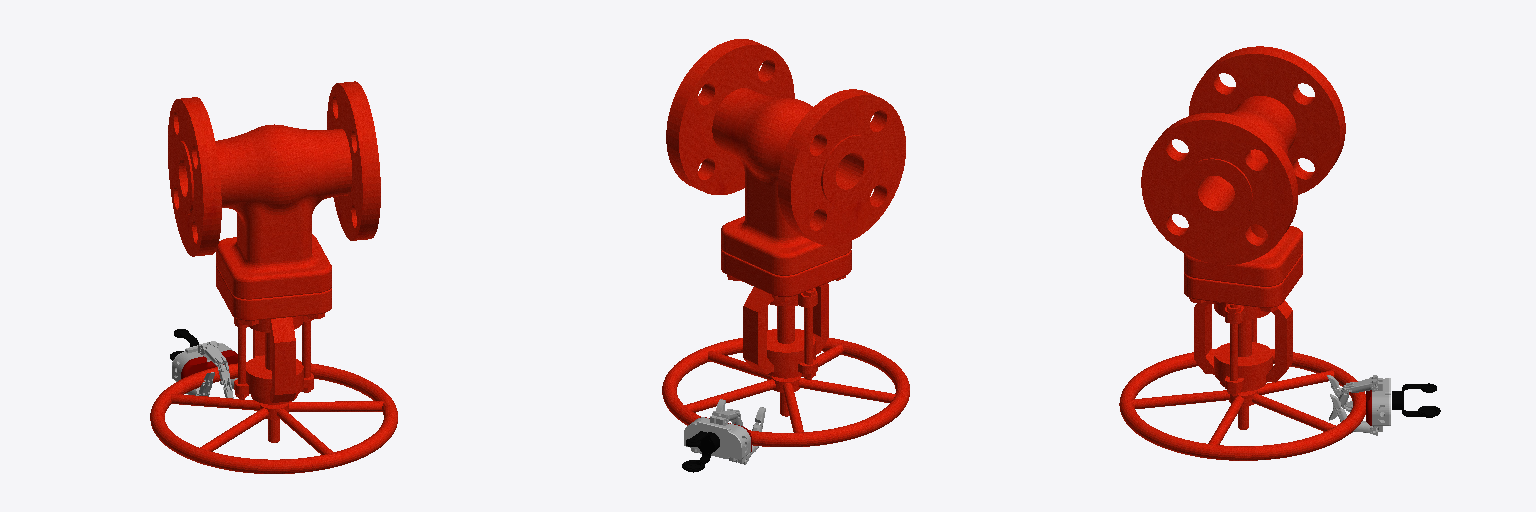
3 renders of one model, left to right at view 1: azimuth 30°, elevation 25°; view 2: azimuth 150°, elevation 25°; view 3: azimuth 270°, elevation 25°, orthographic.
Visible parts, largest first — view 1: ASME_B16.10_Gate_Valve_Flanges_Ends_-_Class_150_1, Hand_ball_-_palmPadMountingPAD-1.001_Hand_ball_-_palmPadMounting; view 2: ASME_B16.10_Gate_Valve_Flanges_Ends_-_Class_150_1, Hand_ball_-_ShaftSupport_underplate-1.001_Hand_ball_-_ShaftSuppo; view 3: ASME_B16.10_Gate_Valve_Flanges_Ends_-_Class_150_1.
Boxes of the visible parts, x1=… form: ASME_B16.10_Gate_Valve_Flanges_Ends_-_Class_150_1: x1=150, y1=81, x2=397, y2=473; Hand_ball_-_palmPadMountingPAD-1.001_Hand_ball_-_palmPadMounting: x1=181, y1=350, x2=237, y2=378; ASME_B16.10_Gate_Valve_Flanges_Ends_-_Class_150_1: x1=662, y1=39, x2=909, y2=446; Hand_ball_-_ShaftSupport_underplate-1.001_Hand_ball_-_ShaftSuppo: x1=684, y1=422, x2=741, y2=459; ASME_B16.10_Gate_Valve_Flanges_Ends_-_Class_150_1: x1=1119, y1=46, x2=1365, y2=460.
Size of the model in its own units: 0.4993 by 0.7649 by 0.6463.
6 materials, 1 textured.